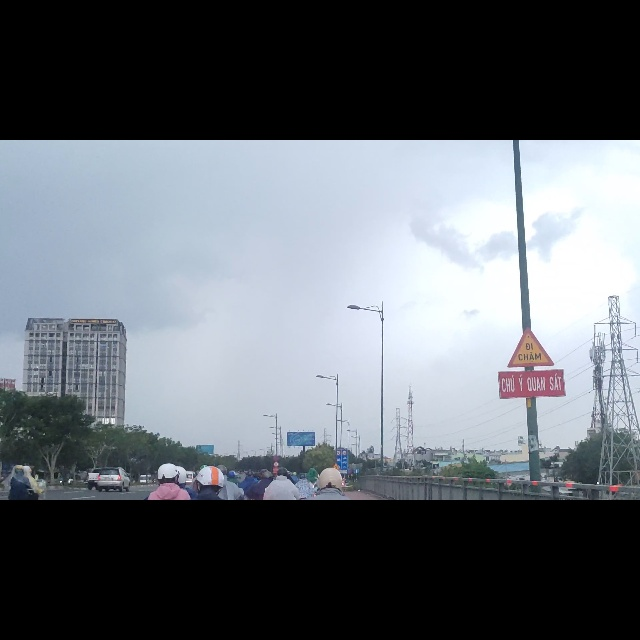bien_cam: (506, 332, 555, 406)
